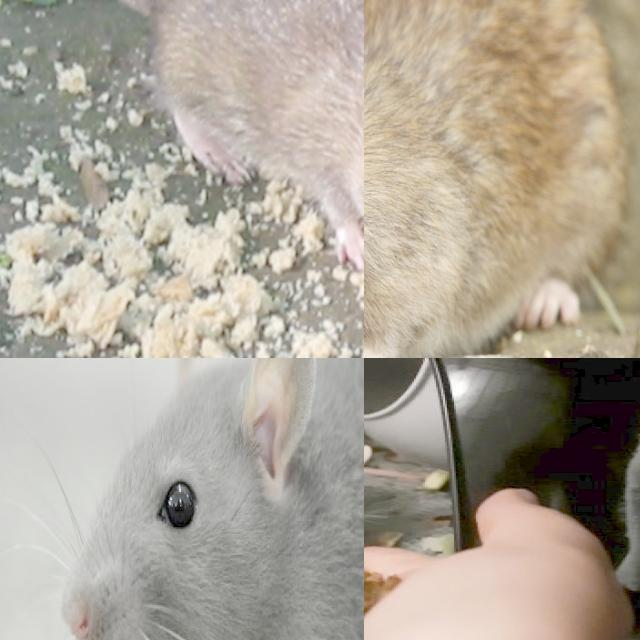rat: (91, 0, 364, 322), (364, 0, 612, 354), (61, 358, 364, 640)
